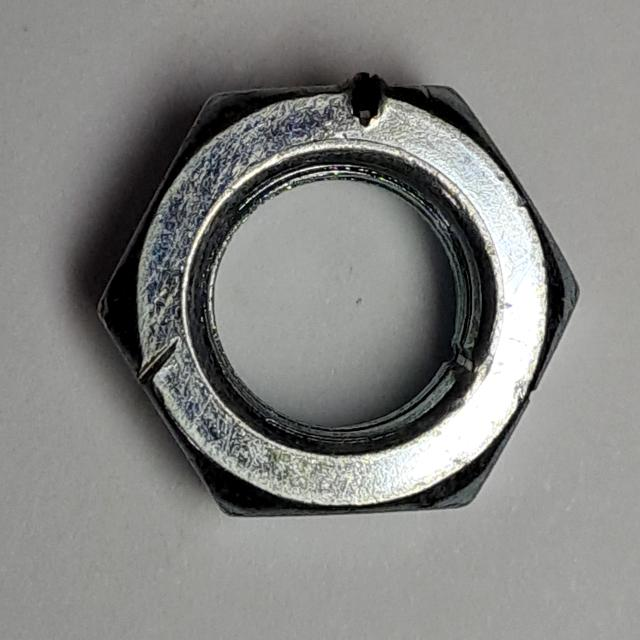Scratches: (79, 57, 594, 533)
